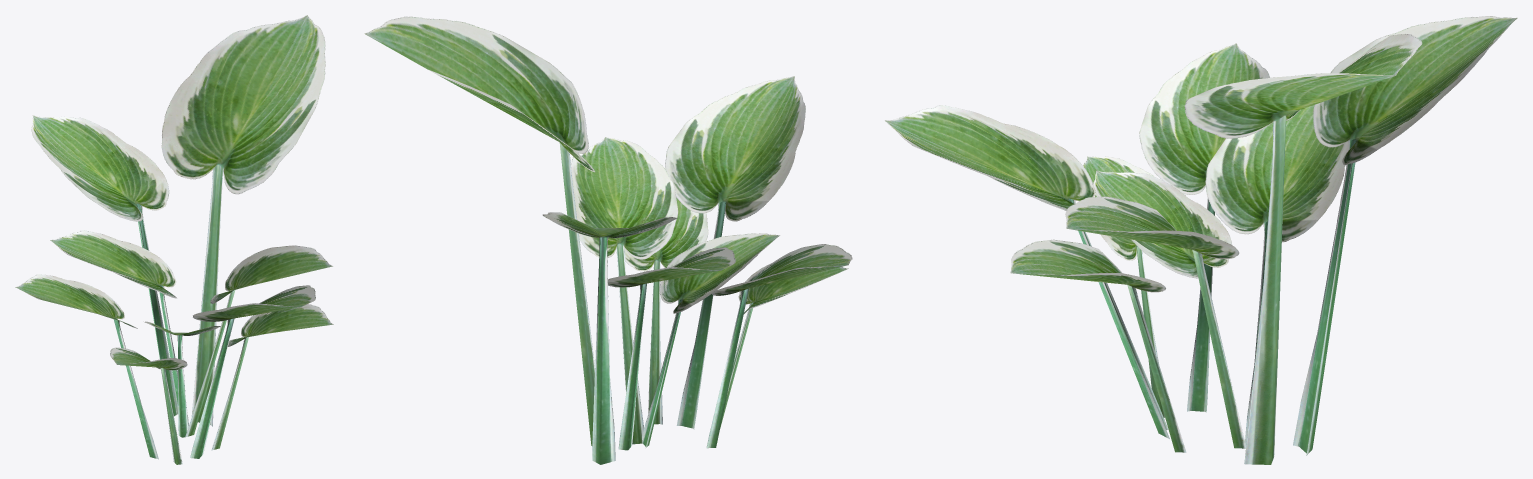
The model's file is plant_small_wg_05AB.fbx.
3 views of the same model, side by side, from view 1: azimuth 30°, elevation 25°; view 2: azimuth 150°, elevation 25°; view 3: azimuth 270°, elevation 25° (orthographic). The views are drawn at different scales.
Parts seen in each view (by area): view 1: plant_small_wg_05AB; view 2: plant_small_wg_05AB; view 3: plant_small_wg_05AB.
Part boxes in pixels (x1,y1,x2,y2): plant_small_wg_05AB: [15, 15, 333, 464]; plant_small_wg_05AB: [364, 16, 852, 464]; plant_small_wg_05AB: [885, 16, 1517, 464].
Size of the model in its own units: 53.96 by 50.08 by 58.46.
